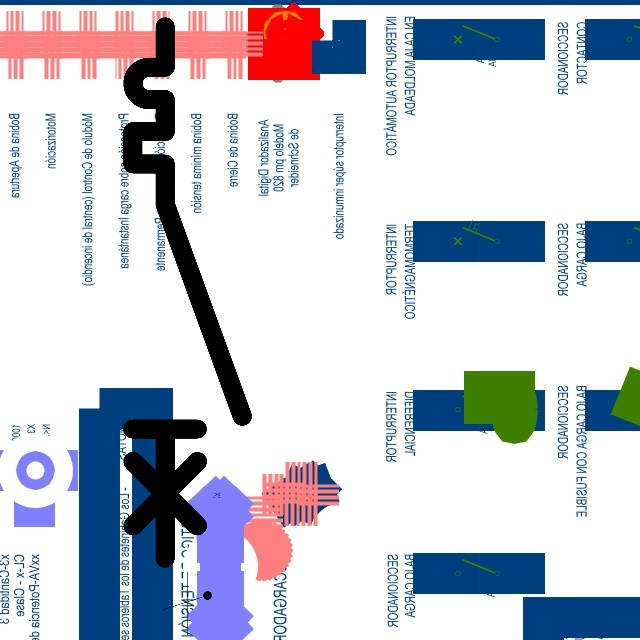interruptor_termomagnetico: (119, 13, 255, 571)
